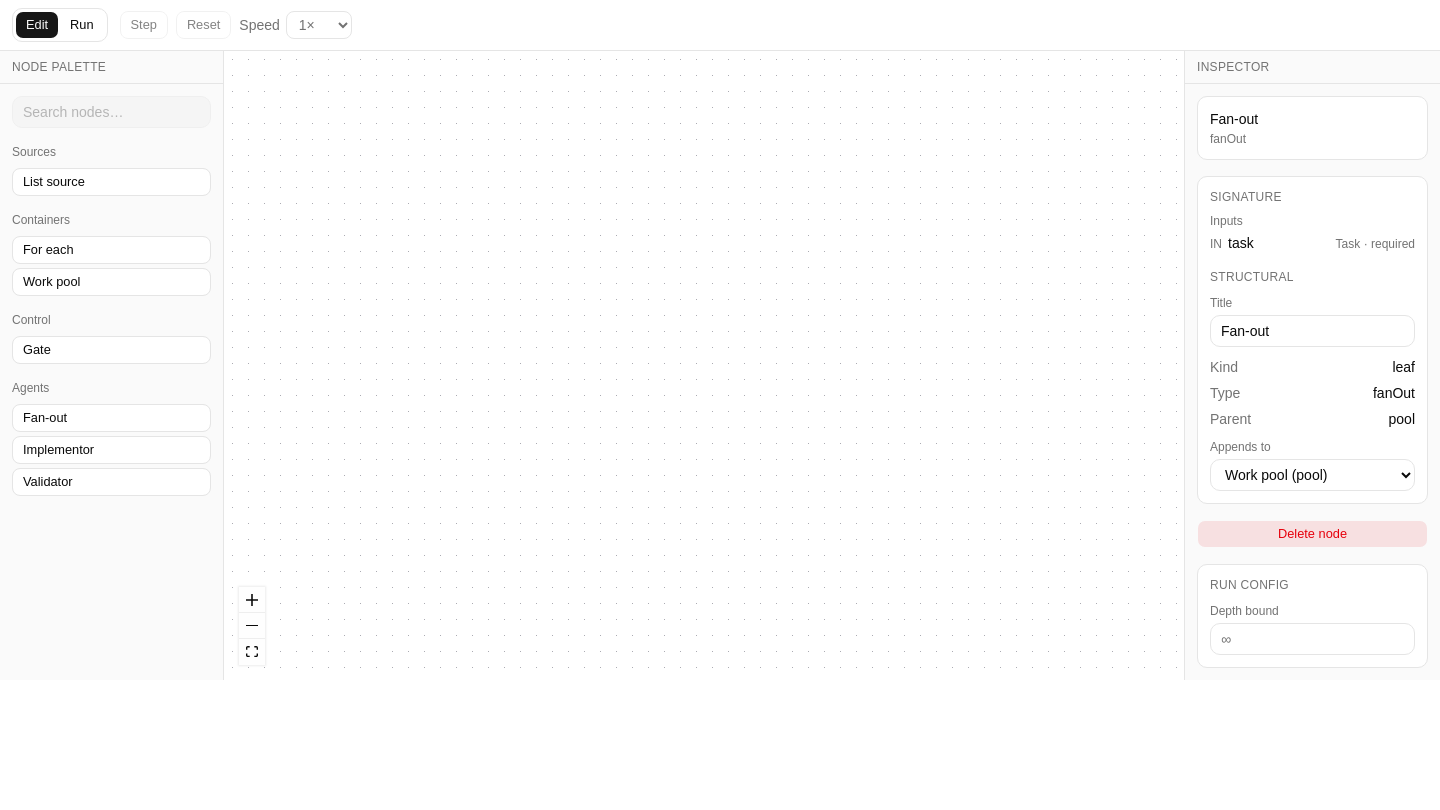
Edit/Run controls › locks palette and inspector while in Run mode
Expected: the button with test id "palette-item-implementor" is enabled, [12, 436, 211, 464]
Expected: the field with test id "inspector-field-title" is enabled, [1210, 315, 1415, 347]
Click the button with test id "mode-run": (82,25) [59, 11, 105, 39]
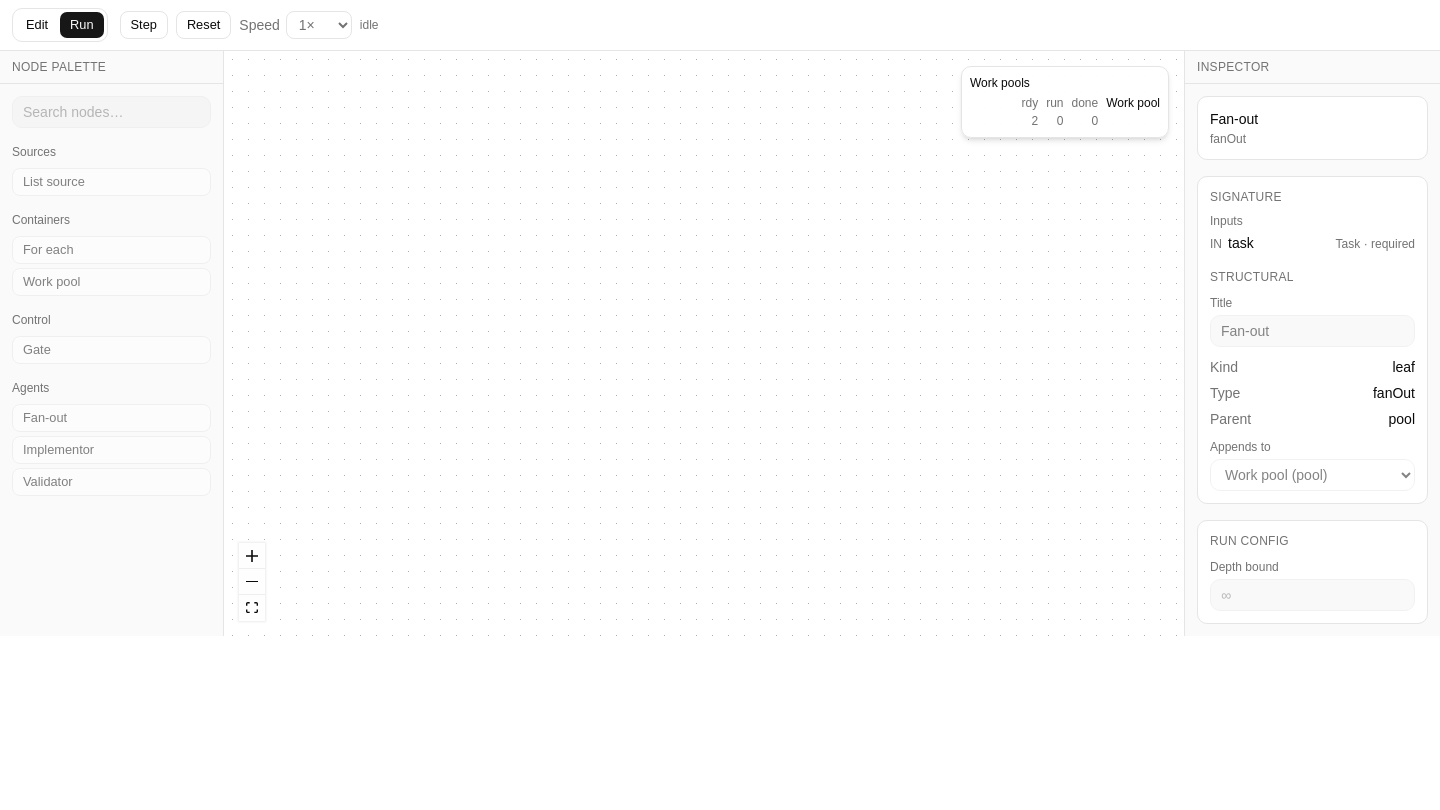
Now the button with test id "palette-item-implementor" is disabled, box [12, 436, 211, 464]
Now the field with test id "inspector-field-title" is disabled, box [1210, 315, 1415, 347]
Now the number field with test id "run-config-depth-bound" is disabled, box [1210, 579, 1415, 611]
